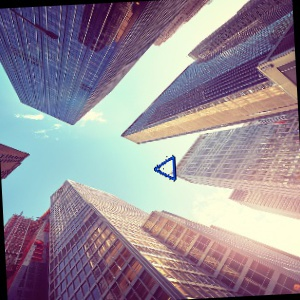triangle: (151, 153, 181, 182)
